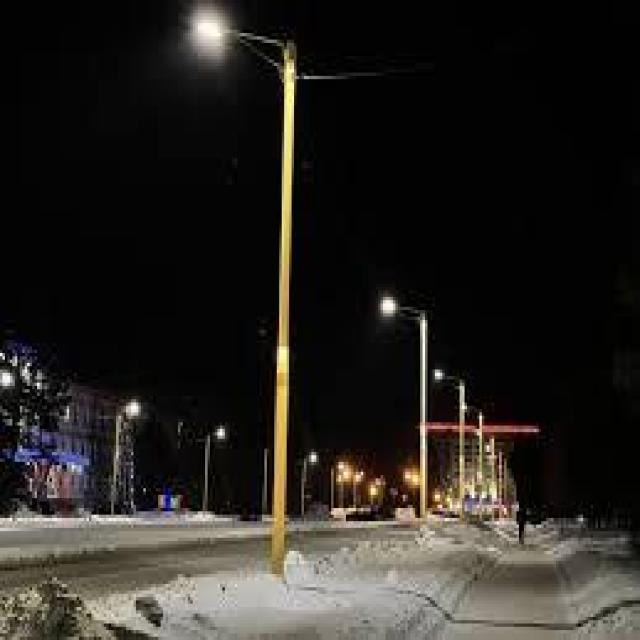pole: (262, 153, 300, 572)
